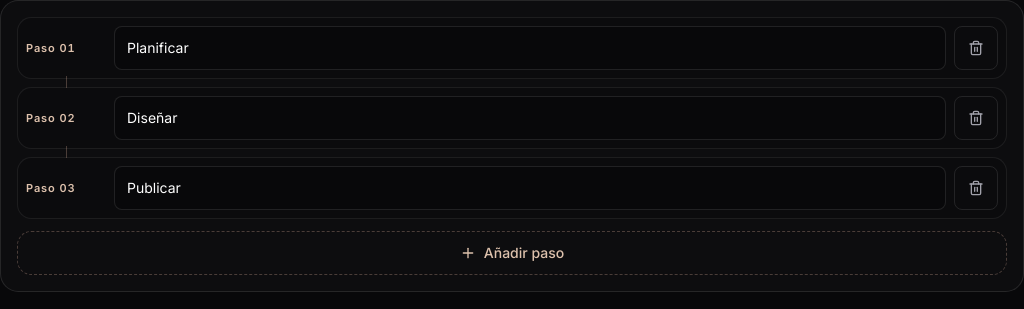
ProjectStepsEditor › deletes a middle row, renumbers, and preserves the following row identity
Click the button named "Eliminar Paso 02".
click(976, 118)  # box [954,96,998,140]
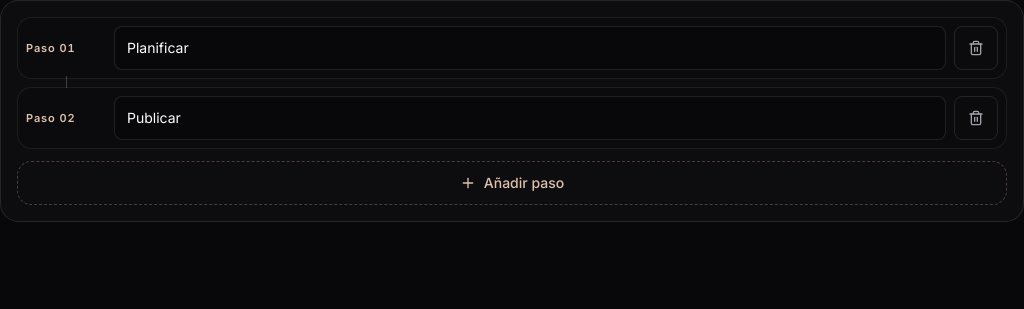
Expected: the field named "Paso 02" holds "Publicar", [114,96,946,140]
Now the text "Paso 03" is gone
Now the number of fields named "Paso 02" is 1, box [114,96,946,140]
